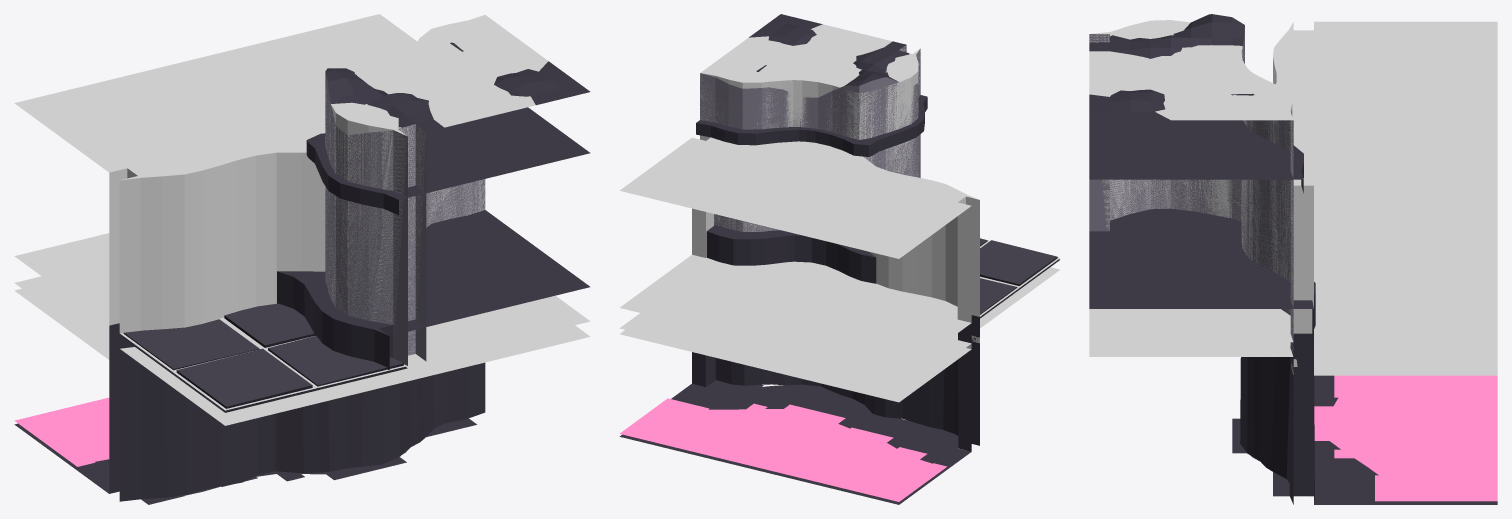
The model's file is Tile_LLWF.fbx.
The picture shows the model from 3 angles, left to right: view 1: azimuth 30°, elevation 25°; view 2: azimuth 150°, elevation 25°; view 3: azimuth 270°, elevation 25°; orthographic projection. The views are drawn at different scales.
Visible parts, largest first — view 1: Tile_LLWF, Tile_LLWF_ColCrackBlocker, Tile_LLWF_ColWall, Tile_LLWF_ColGround, Tile_LLWF_ColCrackSurface; view 2: Tile_LLWF, Tile_LLWF_ColCrackBlocker, Tile_LLWF_ColWall, Tile_LLWF_ColCrackSurface, Tile_LLWF_ColGround; view 3: Tile_LLWF, Tile_LLWF_ColCrackBlocker, Tile_LLWF_ColWall, Tile_LLWF_ColGround, Tile_LLWF_ColCrackSurface.
Boxes of the visible parts, x1,y1,x2,y2 form: Tile_LLWF: (14,42,590,504); Tile_LLWF_ColCrackBlocker: (14,14,485,333); Tile_LLWF_ColWall: (325,15,589,359); Tile_LLWF_ColGround: (120,296,590,425); Tile_LLWF_ColCrackSurface: (14,276,109,359); Tile_LLWF: (619,14,1059,504); Tile_LLWF_ColCrackBlocker: (619,135,979,375); Tile_LLWF_ColWall: (700,24,920,231); Tile_LLWF_ColCrackSurface: (619,313,979,402); Tile_LLWF_ColGround: (980,240,1059,328); Tile_LLWF: (1089,14,1497,504); Tile_LLWF_ColCrackBlocker: (1241,21,1497,342); Tile_LLWF_ColWall: (1089,20,1293,342); Tile_LLWF_ColGround: (1089,309,1293,356); Tile_LLWF_ColCrackSurface: (1291,342,1497,375).
Bounding box in the file's own units: 5 × 5.37 × 5.
